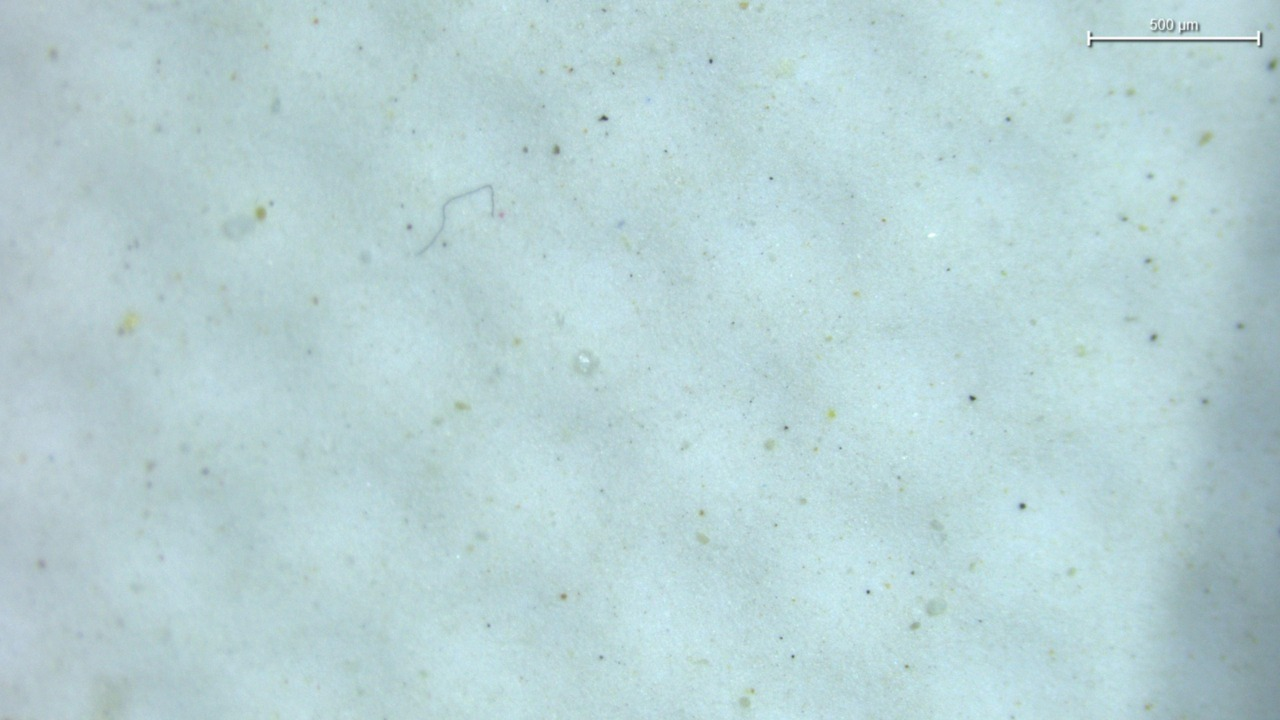microplastic_fragment: (573, 350, 599, 374)
